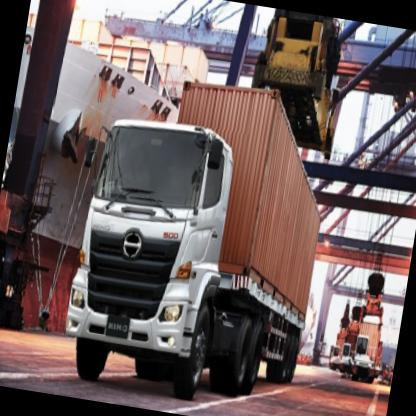truck: (58, 111, 251, 407)
